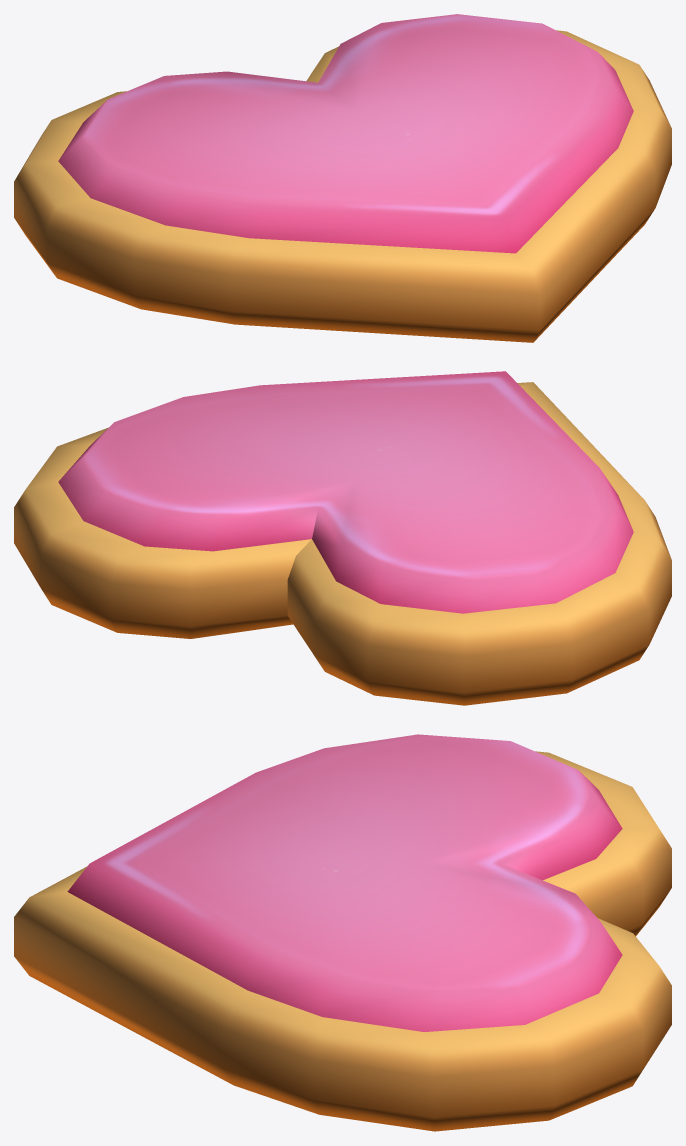
The model's file is Cookie_Heart.fbx.
The picture shows the model from 3 angles, top to bottom: view 1: azimuth 30°, elevation 25°; view 2: azimuth 150°, elevation 25°; view 3: azimuth 270°, elevation 25°; orthographic projection. The views are drawn at different scales.
Visible parts, largest first — view 1: Cookie_Heart; view 2: Cookie_Heart; view 3: Cookie_Heart.
Boxes of the visible parts, x1,y1,x2,y2 form: Cookie_Heart: (14, 14, 671, 342); Cookie_Heart: (14, 371, 671, 705); Cookie_Heart: (14, 734, 671, 1131).
Bounding box in the file's own units: 34.87 × 5.68 × 30.12.
